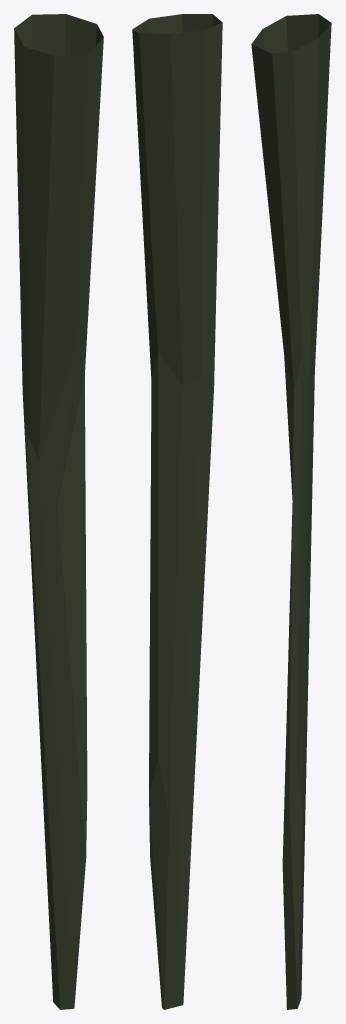
Rendered from EA_Swamp_Liana_03b.glb.
3 views of the same model, side by side, from view 1: azimuth 30°, elevation 25°; view 2: azimuth 210°, elevation 25°; view 3: azimuth 270°, elevation 25° (orthographic).
Visible parts, largest first — view 1: EA_Swamp_Liana_03b; view 2: EA_Swamp_Liana_03b; view 3: EA_Swamp_Liana_03b.
Part boxes in pixels (<box>): EA_Swamp_Liana_03b: <box>14,14,103,1009</box>; EA_Swamp_Liana_03b: <box>132,14,222,1009</box>; EA_Swamp_Liana_03b: <box>251,14,331,1009</box>.
Bounding box in the file's own units: 0.2134 × 2.62 × 0.195.
1 material, 1 textured.
